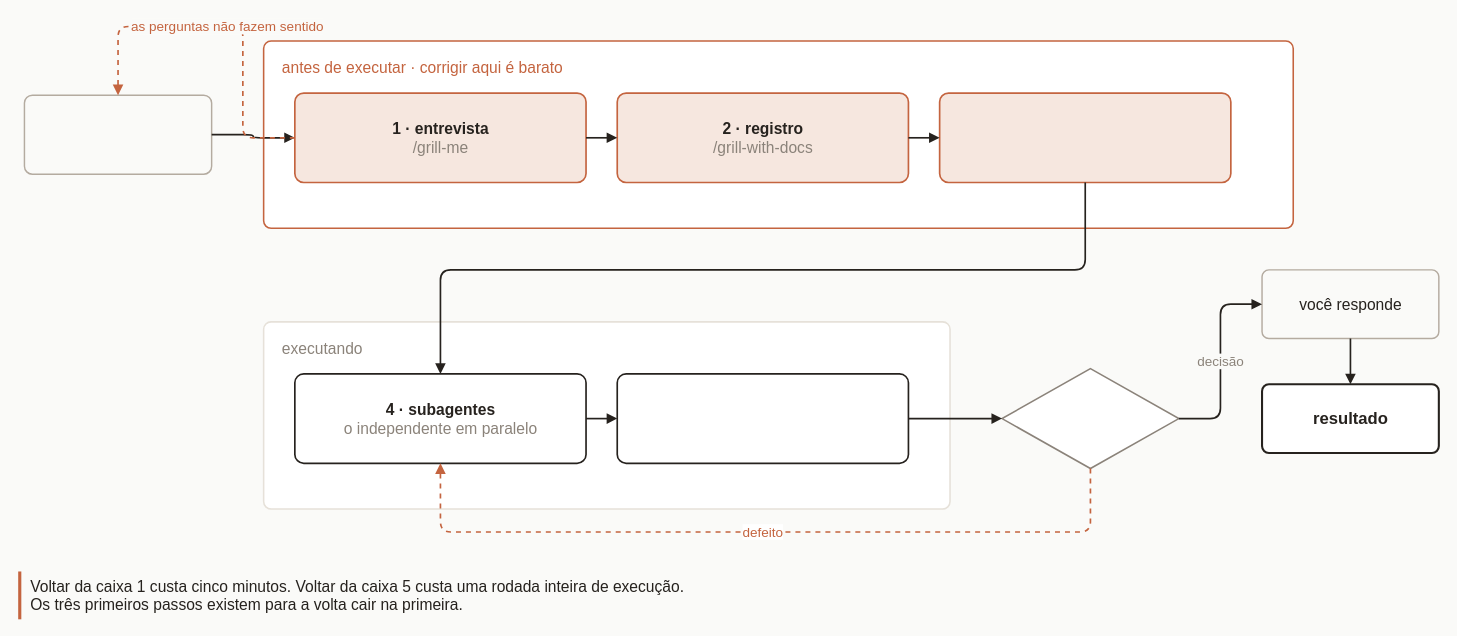
Some shapes in this 1457 by 636 pixel diagram are drawn without their labels. The shapes that lost their labels are listed below. From the top down, each one's centre as x and y in pixels, then its label:
At point (117, 134): "você descreve a tarefa".
At point (1084, 137): "3 · plano escrito writing-plans".
At point (762, 418): "5 · revisão adversarial uma lente por revisor".
At point (1090, 418): "defeito ou decisão?".
